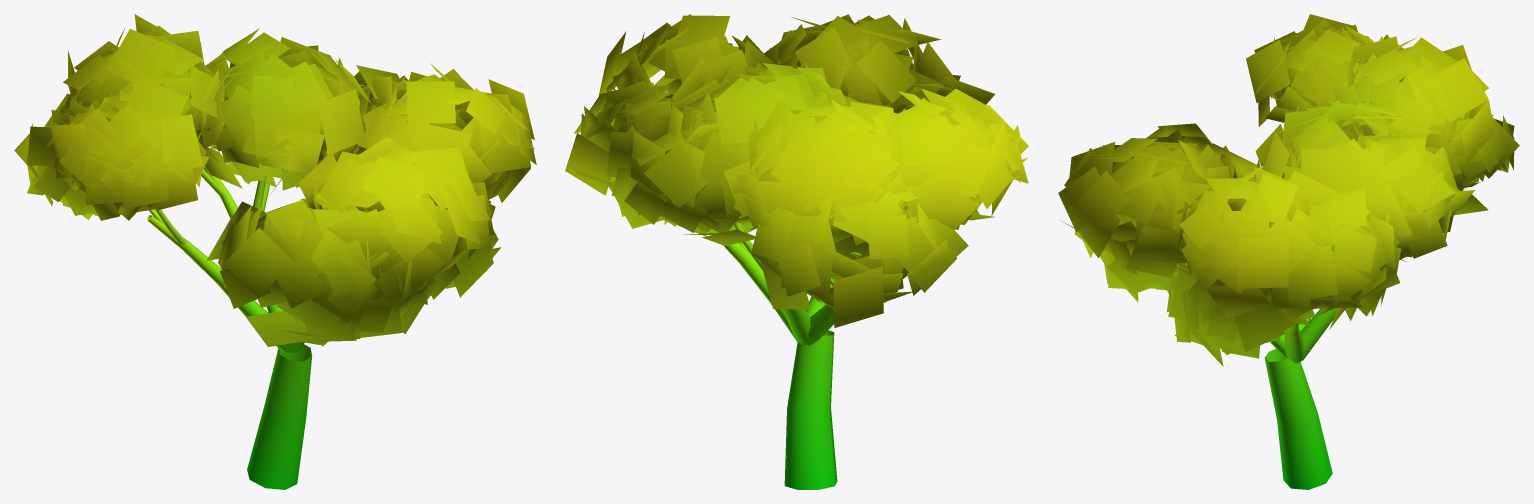
The model's file is kaki_b.glb.
3 renders of one model, left to right at view 1: azimuth 30°, elevation 25°; view 2: azimuth 150°, elevation 25°; view 3: azimuth 270°, elevation 25°, orthographic. The views are drawn at different scales.
Parts seen in each view (by area): view 1: kaki_b; view 2: kaki_b; view 3: kaki_b.
Boxes of the visible parts, bbox=[...] form: kaki_b: bbox=[14, 14, 536, 489]; kaki_b: bbox=[565, 14, 1028, 489]; kaki_b: bbox=[1058, 14, 1519, 489].
Size of the model in its own units: 5.69 by 5.39 by 5.56.
